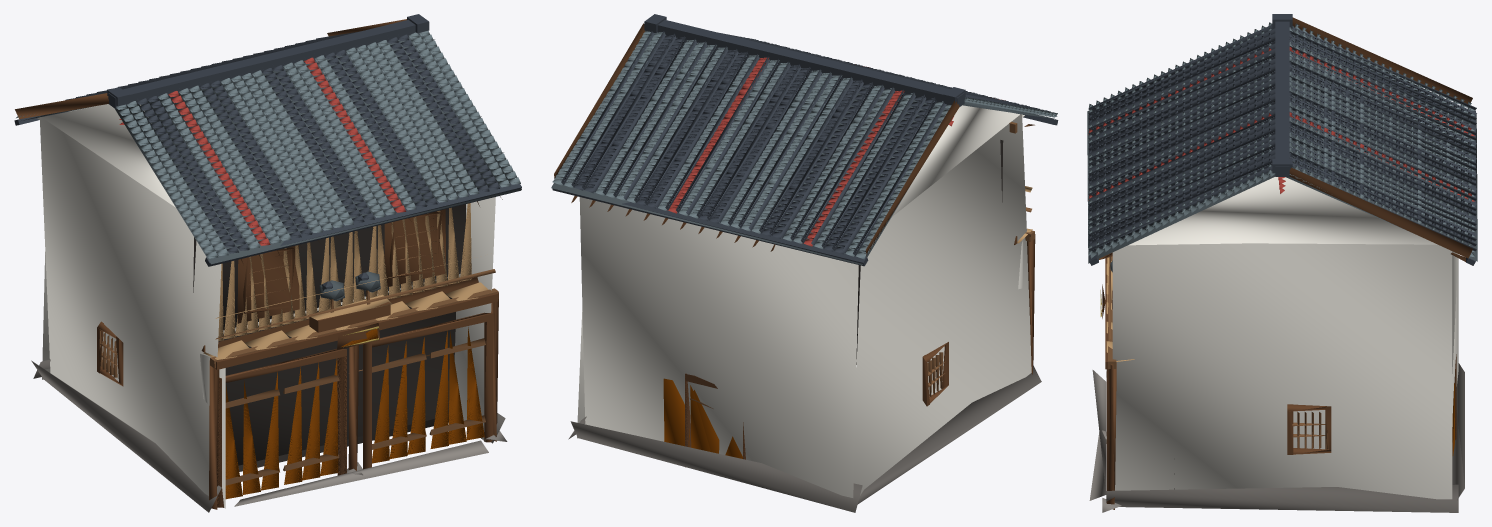
File: lib_lib_house_b.lod.glb
The picture shows the model from 3 angles, left to right: view 1: azimuth 30°, elevation 25°; view 2: azimuth 150°, elevation 25°; view 3: azimuth 270°, elevation 25°; orthographic projection.
Visible parts, largest first — view 1: lhb2_body, lhb2_roof; view 2: lhb2_body, lhb2_roof; view 3: lhb2_body, lhb2_roof.
Part boxes in pixels (x1,y1,x2,y2): lhb2_body: (31, 104, 507, 512); lhb2_roof: (14, 14, 521, 266); lhb2_body: (568, 105, 1041, 512); lhb2_roof: (551, 14, 1058, 266); lhb2_body: (1089, 177, 1464, 512); lhb2_roof: (1087, 14, 1477, 265).
Size of the model in its own units: 7.38 by 7.98 by 8.02.
1 material, 1 textured.
